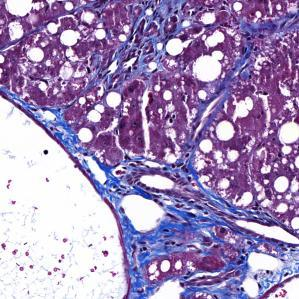fibrosis: (99, 2, 198, 84), (149, 215, 260, 279), (109, 165, 206, 198), (225, 18, 299, 60)
